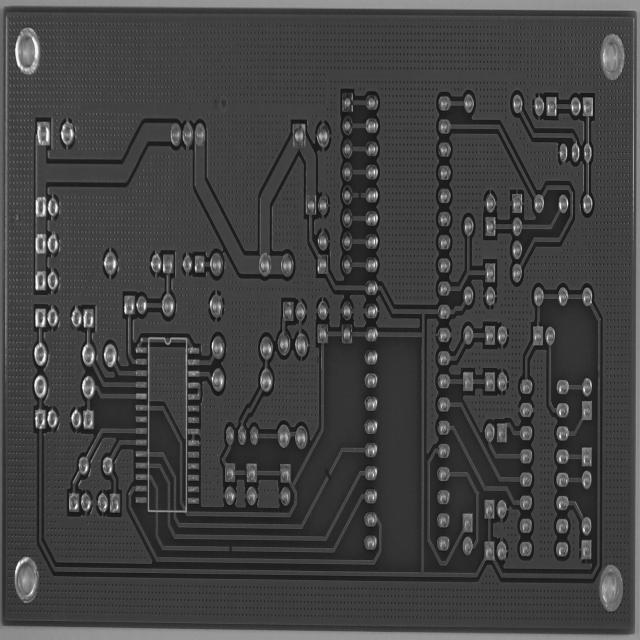open_circuit: (324, 464, 334, 486), (226, 541, 234, 557), (355, 188, 364, 202)
